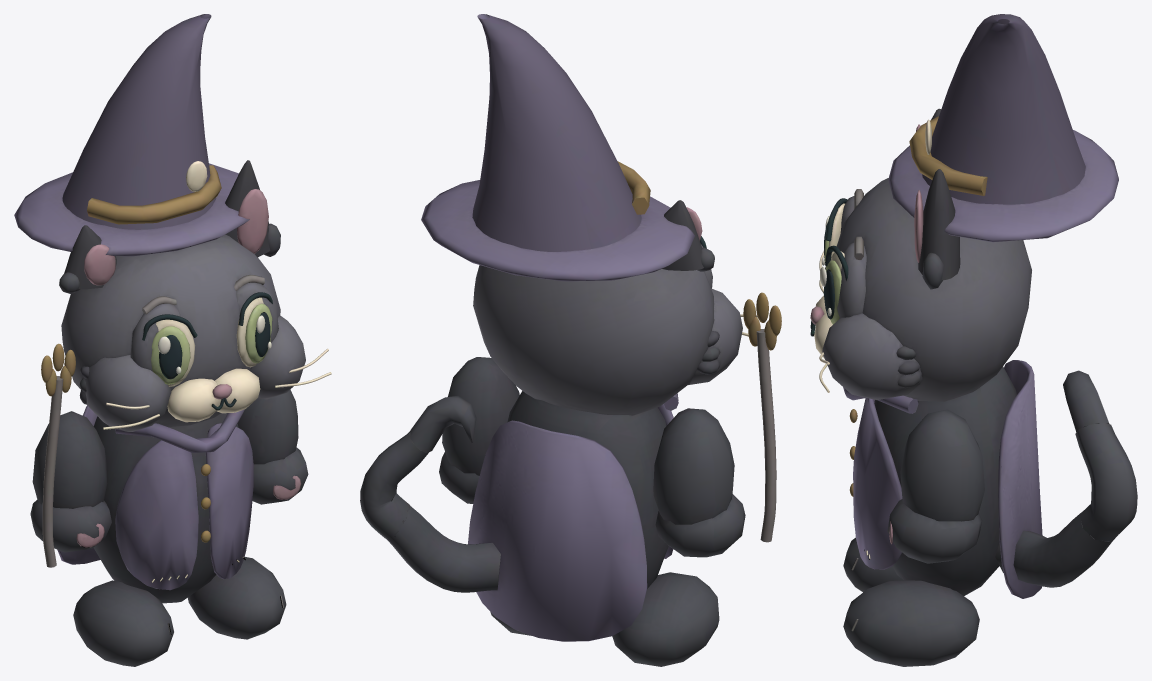
Rendered from soot.glb.
3 renders of one model, left to right at view 1: azimuth 30°, elevation 25°; view 2: azimuth 150°, elevation 25°; view 3: azimuth 270°, elevation 25°, orthographic. The views are drawn at different scales.
Visible parts, largest first — view 1: cheek-head, hat-brim, pear-body, arm, hind-paw, arm.001, hind-paw.001, porcelain-eye, wand, rounded-ear-R, rounded-ear-L; view 2: pear-body, hat-brim, cheek-head, arm, hind-paw, arm.001, tail-root, wand, tail-mid, tail-tip, rounded-ear-L; view 3: hat-brim, cheek-head, pear-body, arm.001, hind-paw.001, tail-mid, tail-root, rounded-ear-R, porcelain-eye, tail-tip, hind-paw.
Boxes of the visible parts, bbox=[...] form: cheek-head: bbox=[61, 234, 331, 431]; hat-brim: bbox=[14, 14, 249, 256]; pear-body: bbox=[57, 405, 253, 603]; arm: bbox=[30, 411, 111, 552]; hind-paw: bbox=[73, 580, 173, 666]; arm.001: bbox=[237, 389, 308, 504]; hind-paw.001: bbox=[187, 557, 286, 639]; porcelain-eye: bbox=[142, 292, 272, 386]; wand: bbox=[41, 343, 75, 567]; rounded-ear-R: bbox=[225, 160, 280, 257]; rounded-ear-L: bbox=[59, 225, 116, 293]; pear-body: bbox=[468, 391, 678, 641]; hat-brim: bbox=[421, 14, 694, 281]; cheek-head: bbox=[473, 244, 768, 415]; arm: bbox=[653, 408, 745, 557]; hind-paw: bbox=[612, 572, 719, 666]; arm.001: bbox=[439, 357, 519, 503]; tail-root: bbox=[386, 506, 500, 592]; wand: bbox=[743, 292, 781, 542]; tail-mid: bbox=[360, 431, 429, 539]; tail-tip: bbox=[410, 395, 476, 452]; rounded-ear-L: bbox=[662, 200, 714, 271]; hat-brim: bbox=[888, 14, 1118, 242]; cheek-head: bbox=[814, 178, 1031, 401]; pear-body: bbox=[843, 360, 1042, 598]; arm.001: bbox=[887, 409, 984, 563]; hind-paw.001: bbox=[843, 580, 979, 666]; tail-mid: bbox=[1075, 423, 1137, 541]; tail-root: bbox=[995, 510, 1117, 587]; rounded-ear-R: bbox=[914, 169, 960, 289]; porcelain-eye: bbox=[820, 198, 848, 324]; tail-tip: bbox=[1063, 370, 1109, 431]; hind-paw: bbox=[843, 537, 903, 592].
Bounding box in the file's own units: 0.9147 × 1.8 × 0.8259.
Materials: 1 (1 with a texture image).
